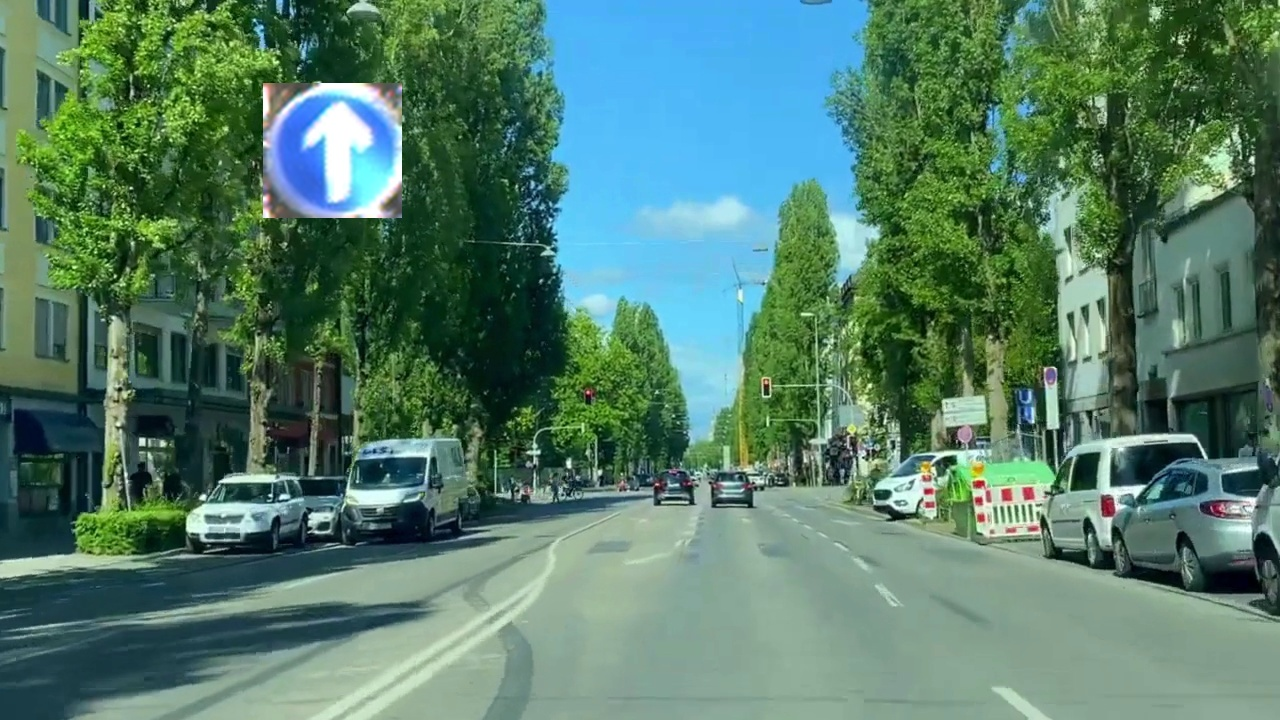Ahead only: (263, 83, 402, 218)
